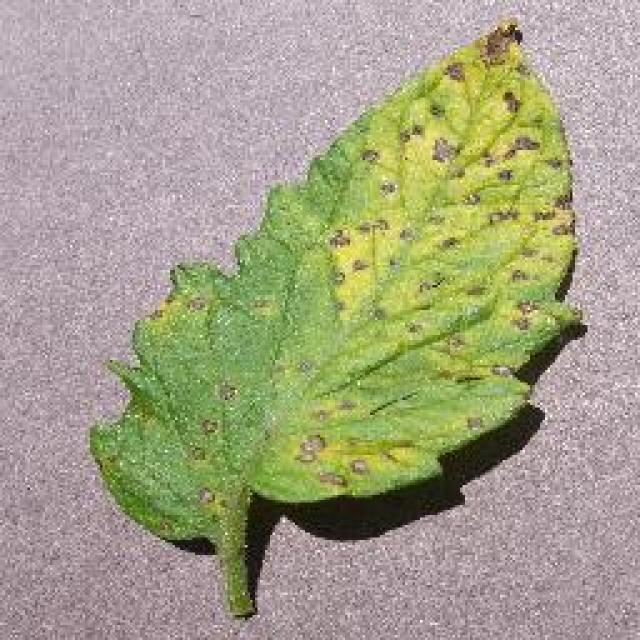Tomato Septoria spot leaf: (92, 18, 582, 537)
